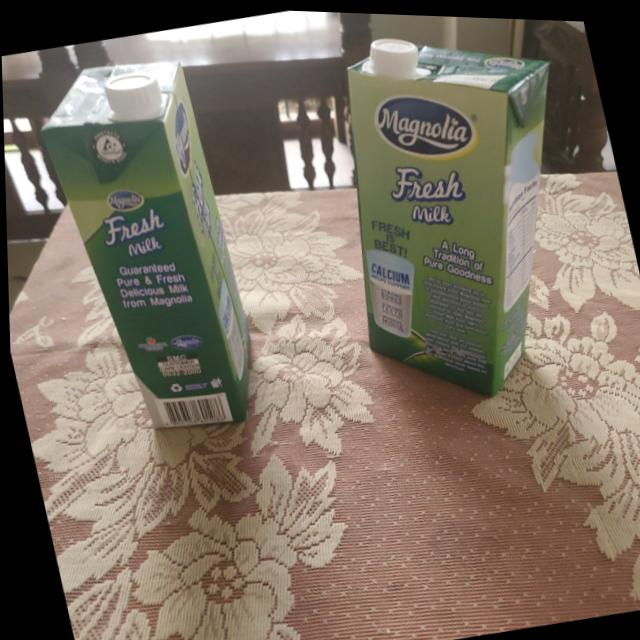milk: (300, 9, 615, 422), (20, 47, 266, 450)
